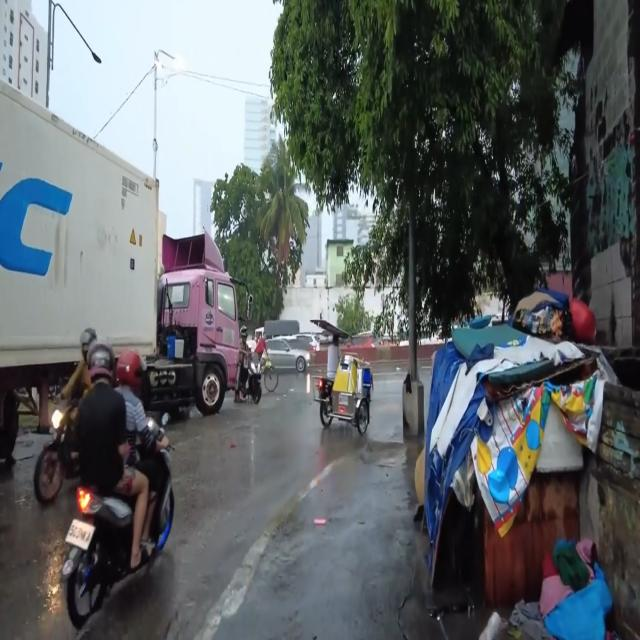full: (116, 349, 149, 387)
half: (88, 341, 115, 382), (80, 328, 96, 351)
